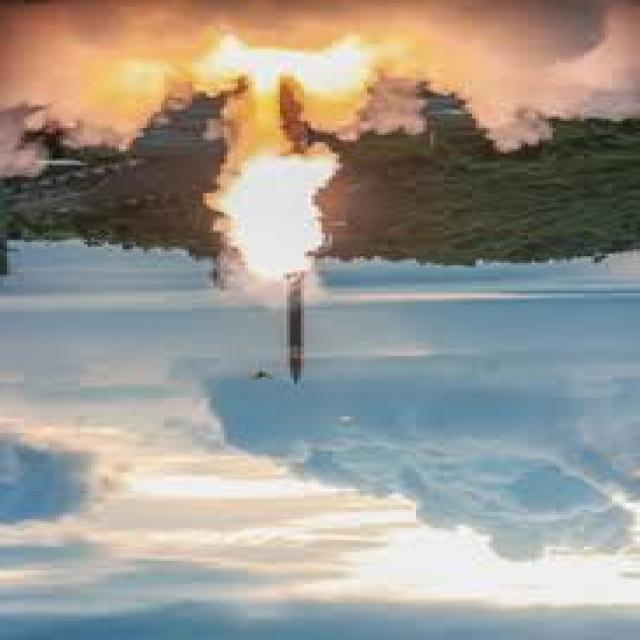Missile: (279, 280, 311, 389)
